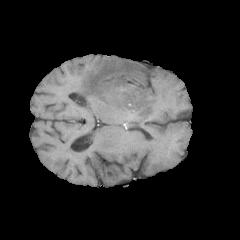glioma: (48, 59, 156, 118)
